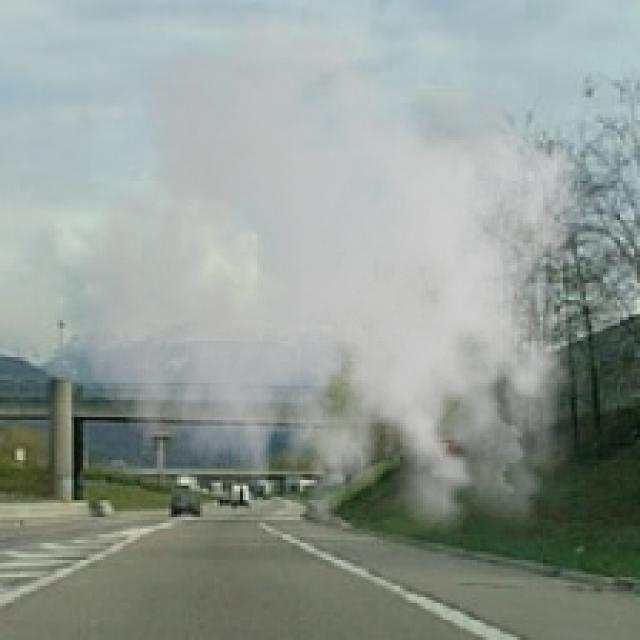smoke: (77, 3, 600, 563)
